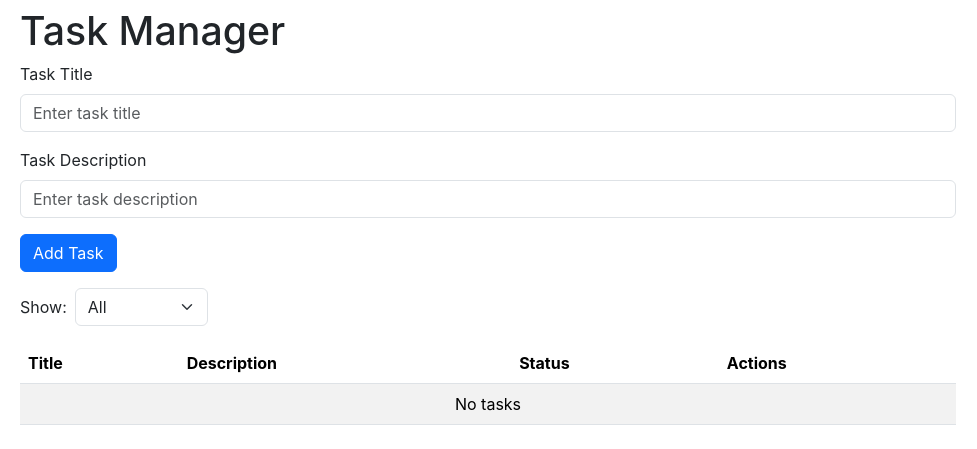
Test: App Component › deletes a task when Delete button is clicked
Type "Task to Delete" into the field with placeholder "Enter task title".
click(488, 113); type("Task to Delete")  # box [20,94,956,132]
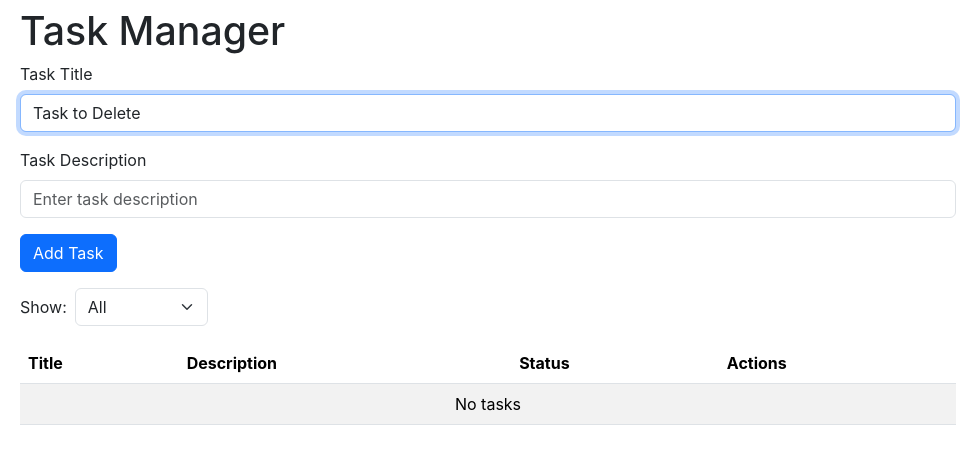
Click the button "Add Task".
click(68, 253)  # box [20,234,116,272]
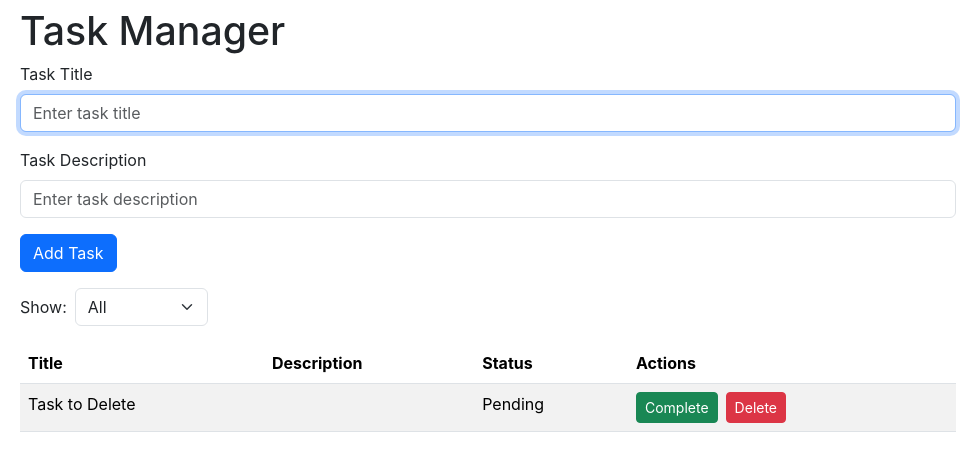
Check: the text "Task to Delete" is shown, box [20,384,264,432]
Click the button "Delete".
click(756, 408)  # box [726,392,786,423]
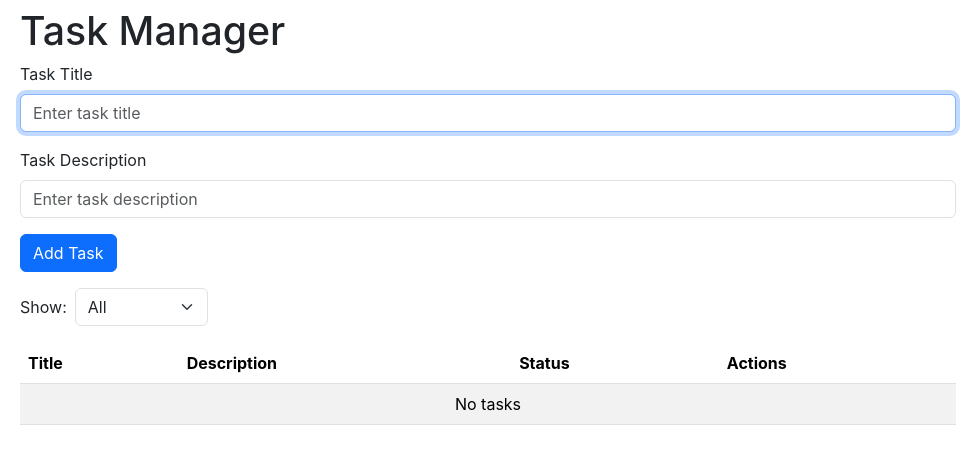
Check: the text "Task to Delete" is gone
Check: the text "No tasks" is shown, box [20,384,956,425]
